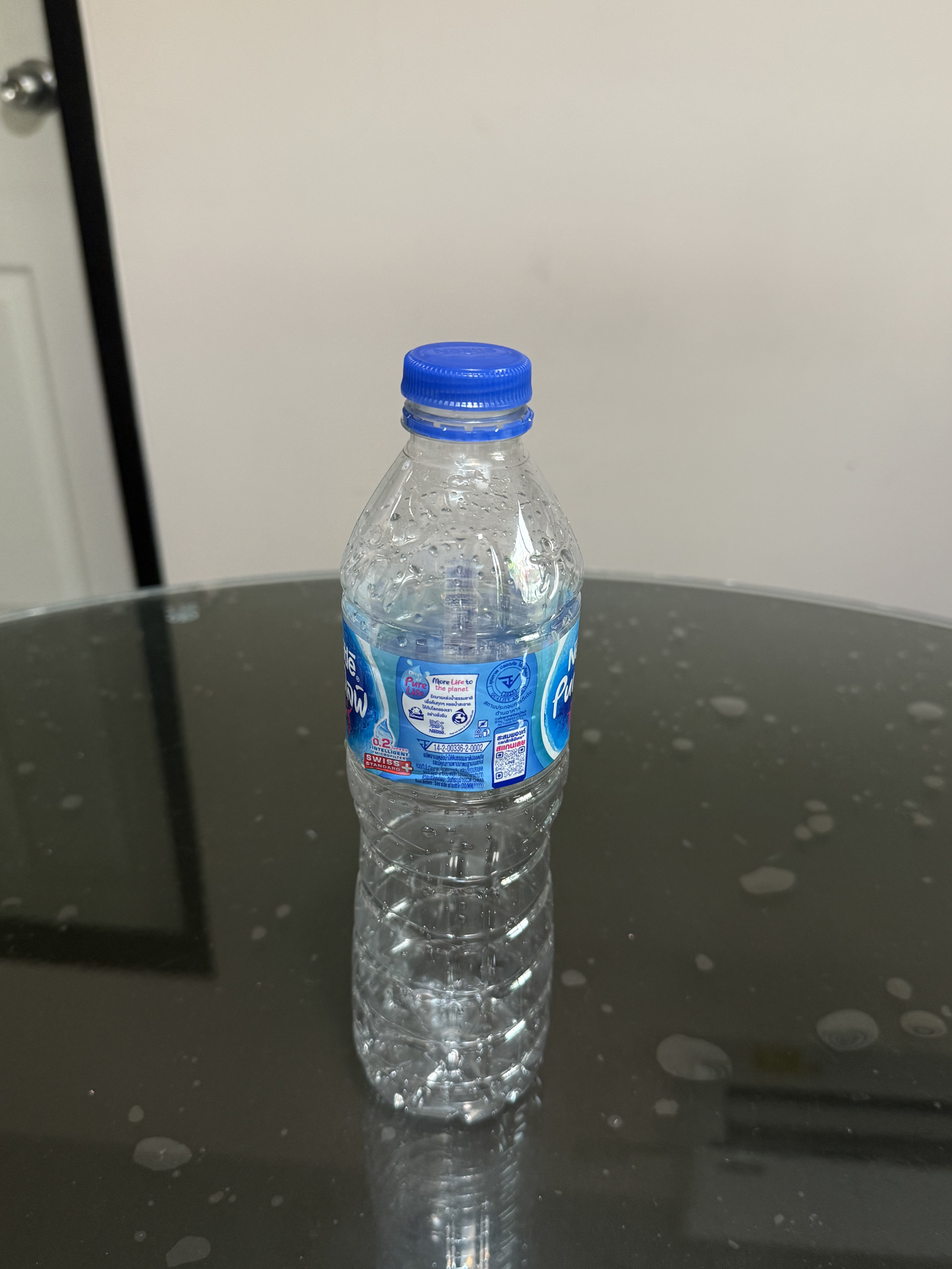half_cap: (396, 336, 536, 439)
